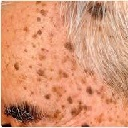Actinic: (11, 6, 59, 75), (49, 85, 98, 114), (3, 102, 43, 125)
